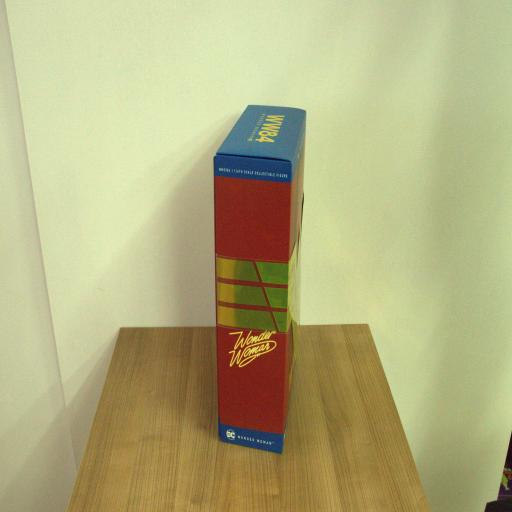WonderWoman: (212, 104, 308, 453)
